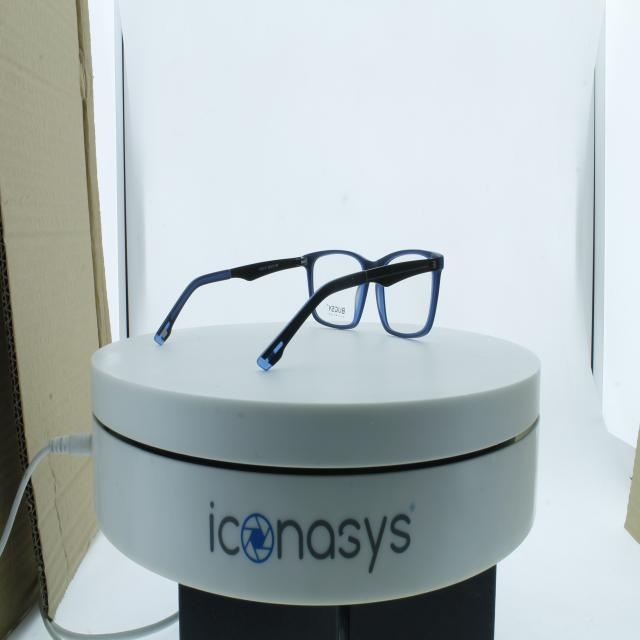Specs: (147, 209, 466, 378)
